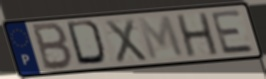B: (31, 21, 75, 72)
D: (64, 19, 110, 67)
E: (208, 8, 257, 56)
H: (174, 11, 222, 59)
M: (135, 14, 187, 62)
X: (103, 17, 150, 65)
